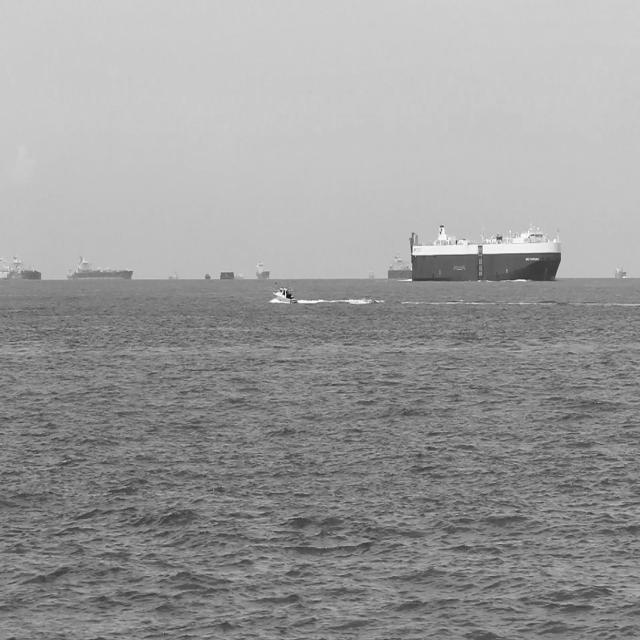ship: (407, 220, 564, 285), (61, 249, 136, 281), (0, 254, 47, 283), (267, 278, 301, 306), (384, 259, 412, 281), (252, 258, 272, 284), (612, 258, 630, 284)
